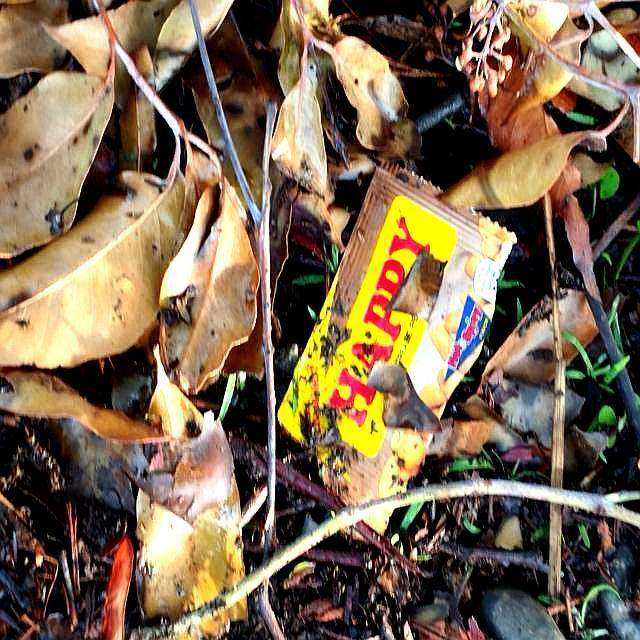Non-biodegradable: (275, 162, 517, 535)
